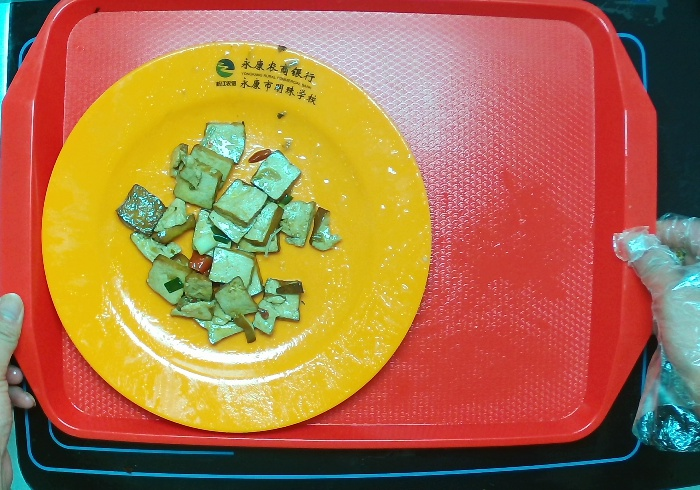YKMZ-Ju_Se_Mian_Pan: (32, 33, 445, 446)
